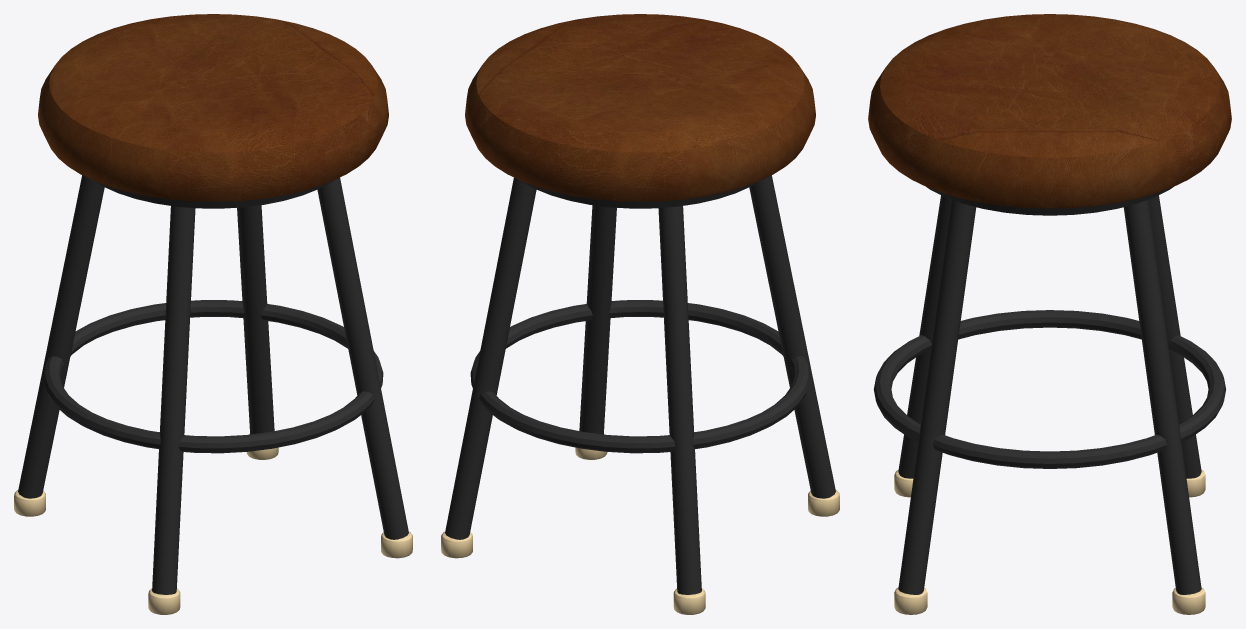
The model's file is table_stool.glb.
3 views of the same model, side by side, from view 1: azimuth 30°, elevation 25°; view 2: azimuth 150°, elevation 25°; view 3: azimuth 270°, elevation 25° (orthographic). The views are drawn at different scales.
Parts seen in each view (by area): view 1: Cushion, Black steel, Brass; view 2: Cushion, Black steel, Brass; view 3: Cushion, Black steel, Brass.
Boxes of the visible parts, x1,y1,x2,y2 form: Cushion: (38,14,388,201); Black steel: (18,175,408,594); Brass: (14,434,412,614); Cushion: (465,14,815,201); Black steel: (445,175,835,594); Brass: (441,434,839,614); Cushion: (868,14,1231,208); Black steel: (873,187,1226,594); Brass: (894,470,1205,614).
Bounding box in the file's own units: 0.37 × 0.535 × 0.37.
Materials: 4 (1 with a texture image).
